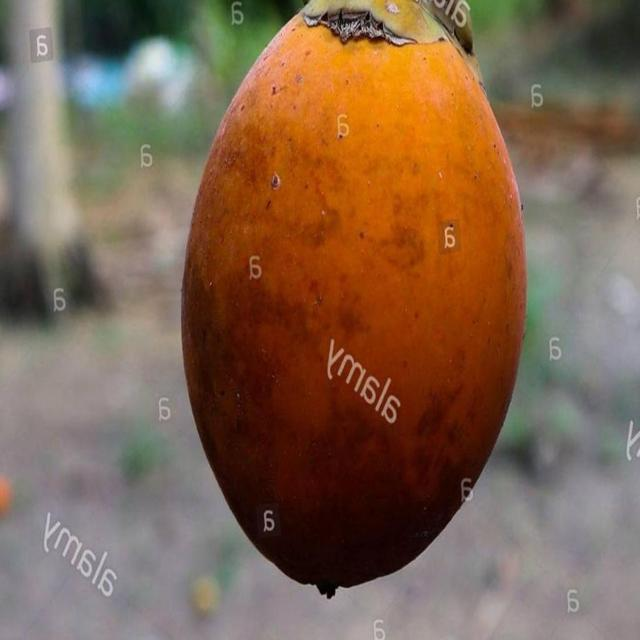good: (180, 0, 528, 600)
